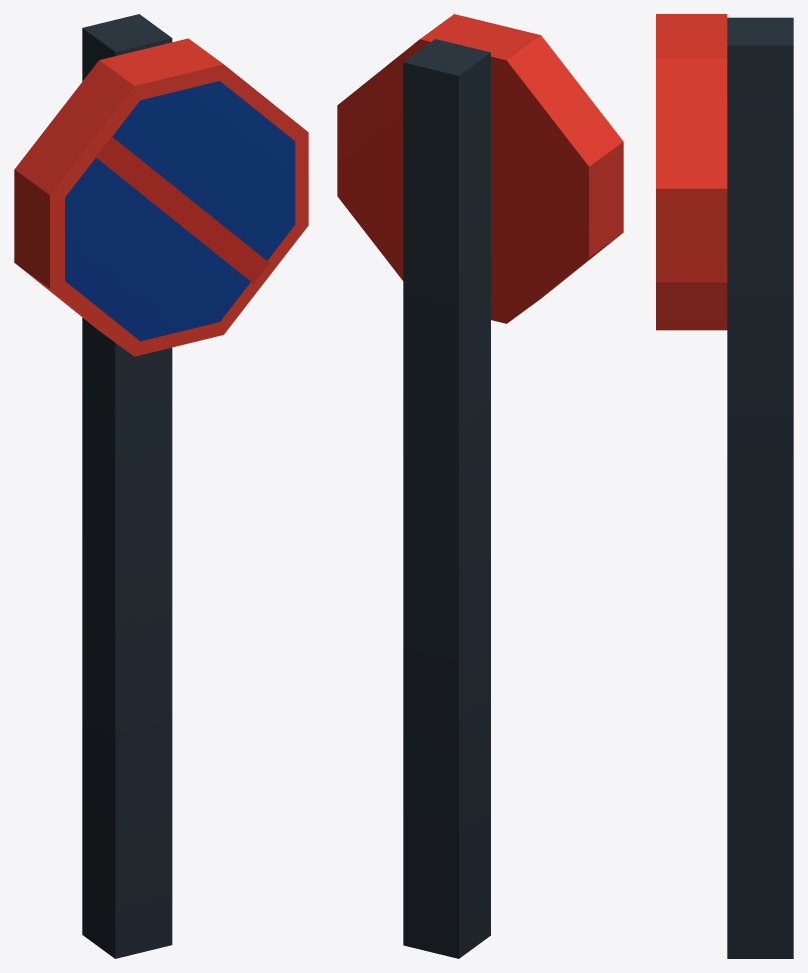
The model's file is Road_sign_9.fbx.
3 views of the same model, side by side, from view 1: azimuth 30°, elevation 25°; view 2: azimuth 150°, elevation 25°; view 3: azimuth 270°, elevation 25° (orthographic). The views are drawn at different scales.
Parts seen in each view (by area): view 1: Road_sign_9; view 2: Road_sign_9; view 3: Road_sign_9.
Part boxes in pixels (x1,y1,x2,y2): Road_sign_9: (14,14,308,958); Road_sign_9: (337,14,623,958); Road_sign_9: (656,14,793,958).
Size of the model in its own units: 107 by 359 by 50.32.
